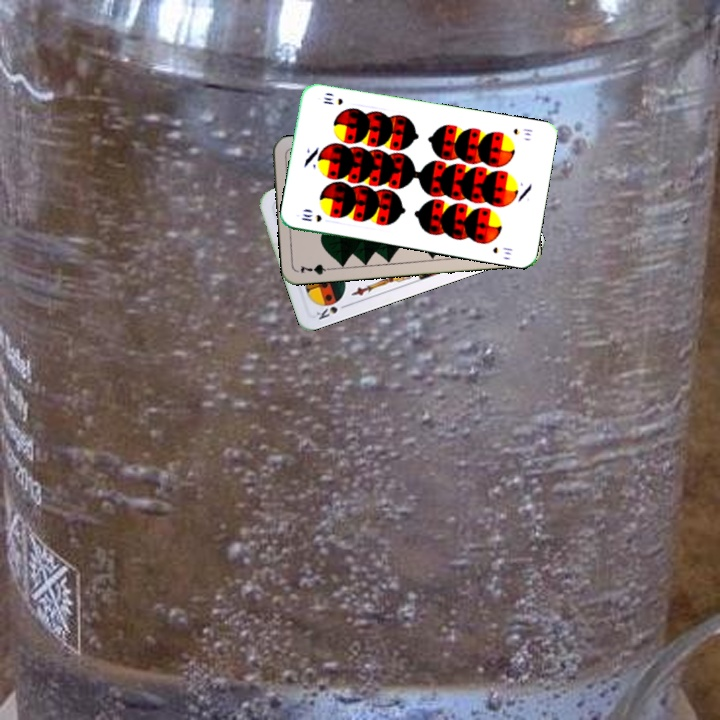G7: (296, 260, 337, 277)
S10: (298, 210, 324, 224), (509, 124, 535, 138)
SK: (312, 300, 351, 322)
